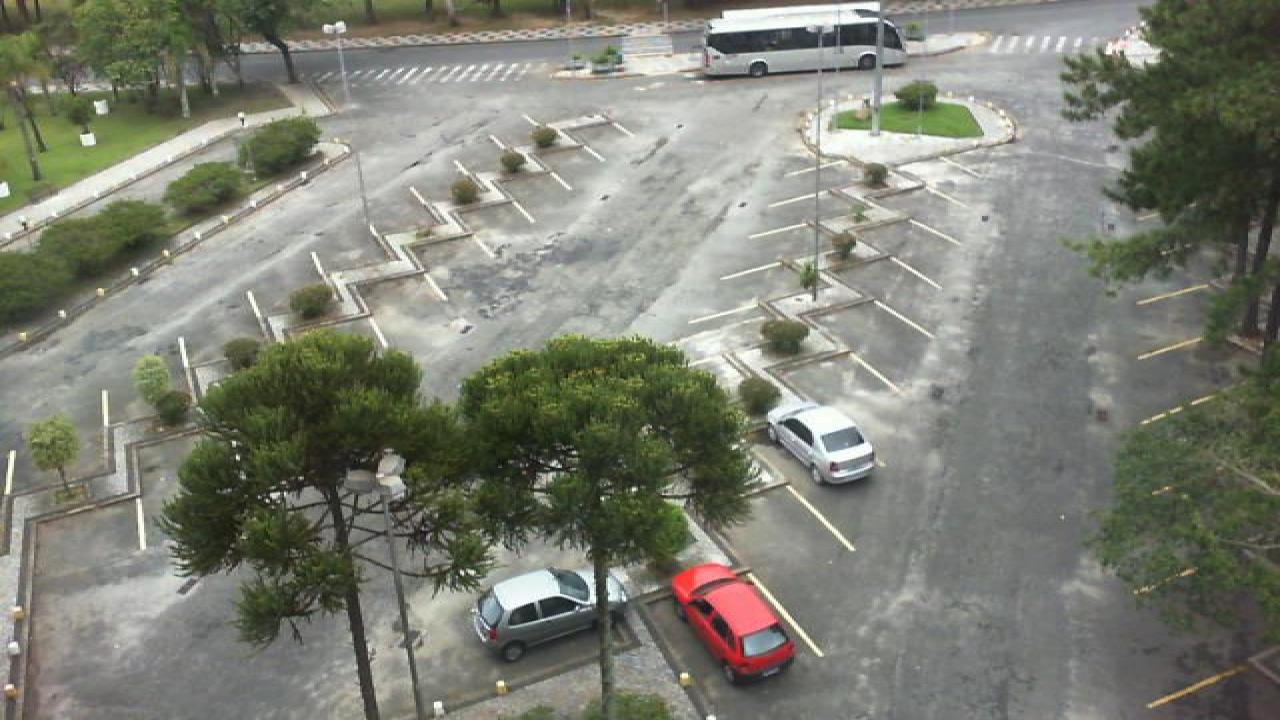Car: (666, 562, 798, 686), (470, 566, 632, 664), (766, 402, 880, 486)
